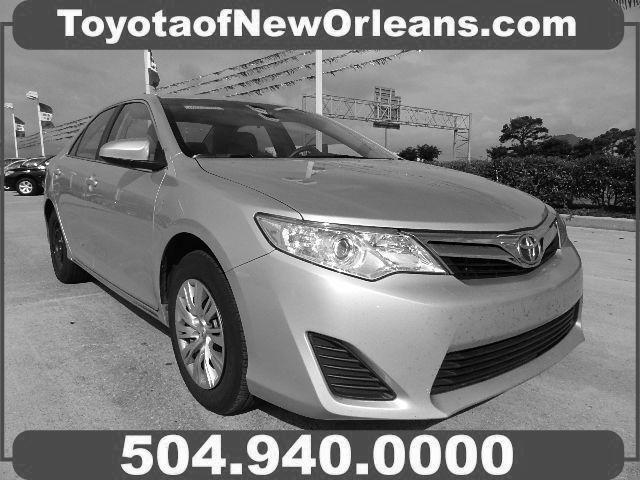car: (43, 95, 585, 422)
